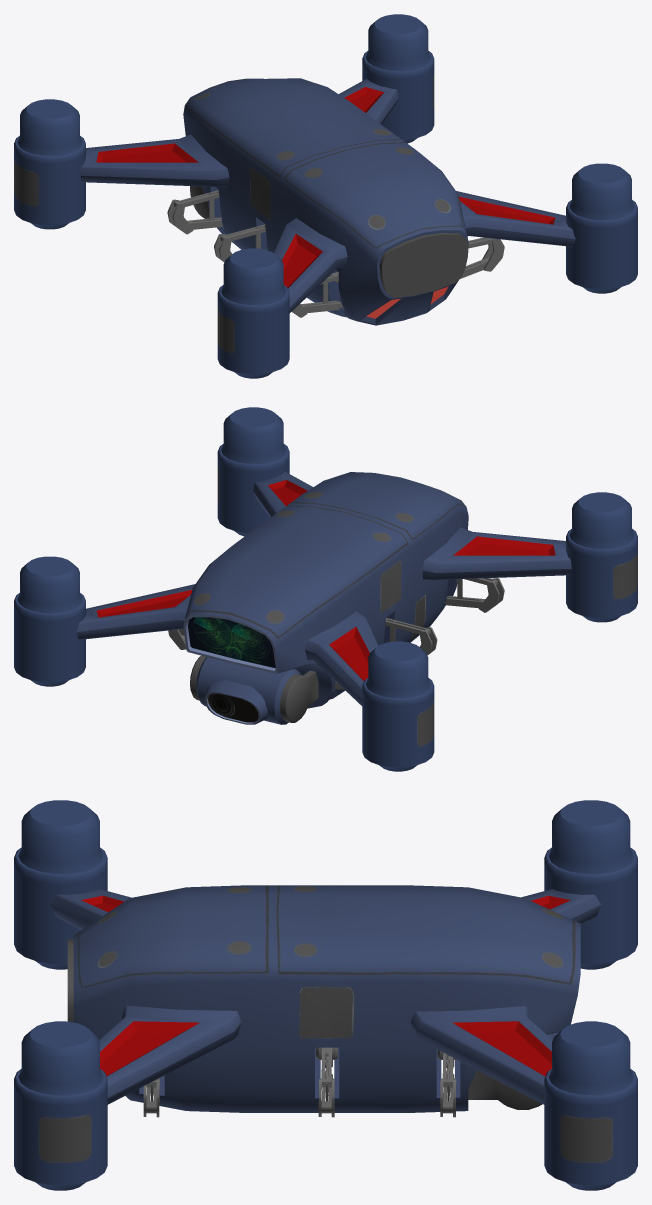
Rendered from drone_lod_01.glb.
The picture shows the model from 3 angles, top to bottom: view 1: azimuth 30°, elevation 25°; view 2: azimuth 150°, elevation 25°; view 3: azimuth 270°, elevation 25°; orthographic projection. The views are drawn at different scales.
Visible parts, largest first — view 1: drone_lod_01; view 2: drone_lod_01; view 3: drone_lod_01.
Part boxes in pixels (left/top/right/bottom): drone_lod_01: left=14, top=14, right=637, bottom=378; drone_lod_01: left=14, top=407, right=637, bottom=771; drone_lod_01: left=14, top=800, right=637, bottom=1190.
Bounding box in the file's own units: 1.1 × 0.3531 × 1.11.
Materials: 1 (1 with a texture image).
